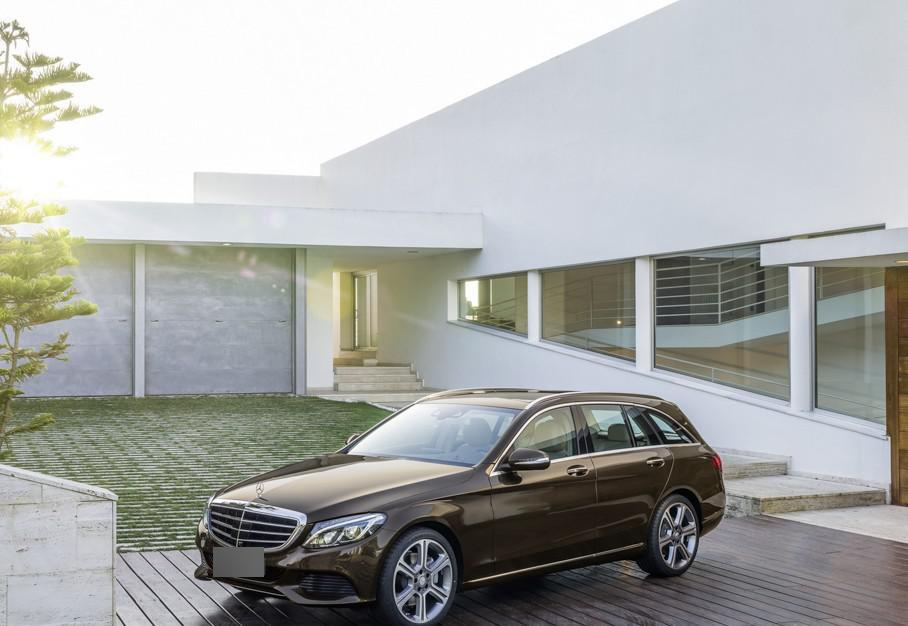Wagon: (193, 386, 727, 626)
